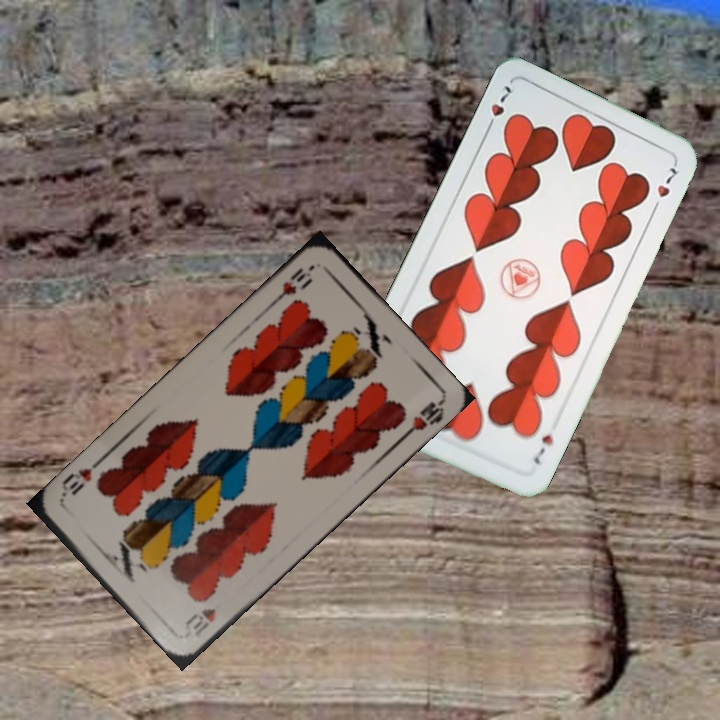H10: (269, 261, 317, 306), (180, 604, 218, 639)
H7: (481, 81, 517, 135), (529, 430, 556, 468)
